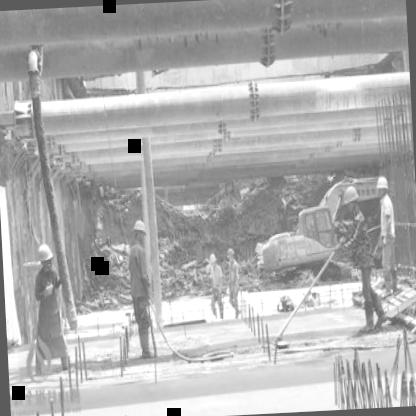helmet: (342, 182, 362, 215), (36, 242, 56, 272), (132, 215, 149, 245), (374, 175, 390, 202), (224, 245, 235, 266), (206, 251, 218, 268)
